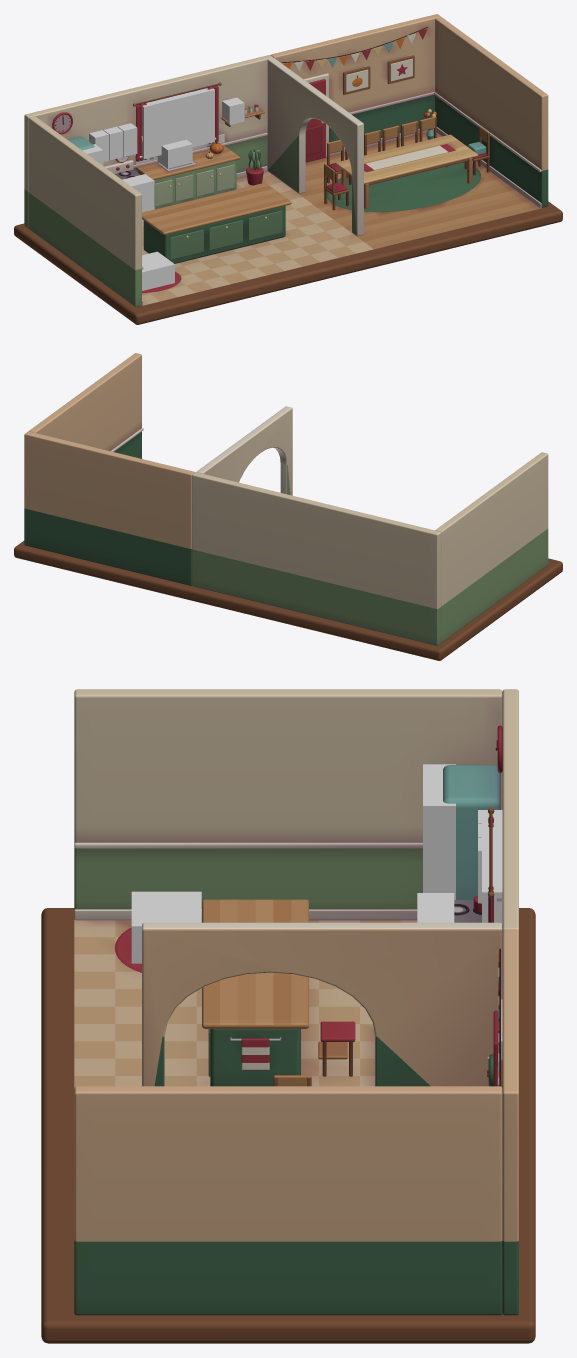
File: kitchen.glb
The picture shows the model from 3 angles, top to bottom: view 1: azimuth 30°, elevation 25°; view 2: azimuth 150°, elevation 25°; view 3: azimuth 270°, elevation 25°; orthographic projection. The views are drawn at different scales.
Visible parts, largest first — view 1: room__geo, furniture__geo, hit_window__geo, hit_cat__geo, door__geo, hit_faucet__geo, hit_oven__geo, hit_jar__geo, hit_pot_2__geo, hit_pot_1__geo; view 2: room__geo; view 3: room__geo, furniture__geo, hit_fridge__geo, hit_cat__geo, hit_window__geo, hit_oven__geo.
Boxes of the visible parts, left/top/right/bottom form: room__geo: left=14, top=14, right=562, bottom=324; furniture__geo: left=52, top=27, right=489, bottom=292; hit_window__geo: left=139, top=87, right=214, bottom=159; hit_cat__geo: left=142, top=251, right=174, bottom=290; door__geo: left=305, top=79, right=325, bottom=162; hit_faucet__geo: left=157, top=139, right=192, bottom=168; hit_oven__geo: left=122, top=174, right=154, bottom=220; hit_jar__geo: left=222, top=97, right=244, bottom=124; hit_pot_2__geo: left=117, top=123, right=137, bottom=156; hit_pot_1__geo: left=103, top=126, right=122, bottom=160; room__geo: left=14, top=353, right=562, bottom=660; room__geo: left=41, top=689, right=535, bottom=1343; furniture__geo: left=114, top=725, right=502, bottom=1087; hit_fridge__geo: left=423, top=764, right=455, bottom=899; hit_cat__geo: left=131, top=891, right=201, bottom=963; hit_window__geo: left=482, top=822, right=502, bottom=924; hit_oven__geo: left=417, top=893, right=454, bottom=922.
Size of the model in its own units: 12 by 3.3 by 6.
